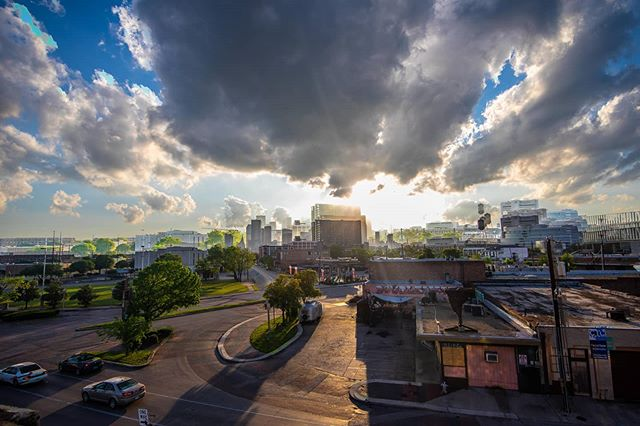building: (373, 250, 640, 400), (493, 194, 585, 237), (303, 200, 374, 244), (244, 214, 279, 244)
car: (82, 371, 152, 419), (6, 357, 52, 384), (56, 351, 104, 374)
sky: (6, 1, 640, 235)
tree: (109, 248, 202, 354), (264, 261, 321, 348), (206, 241, 258, 290), (4, 277, 41, 311), (74, 276, 100, 310), (44, 278, 65, 310)
